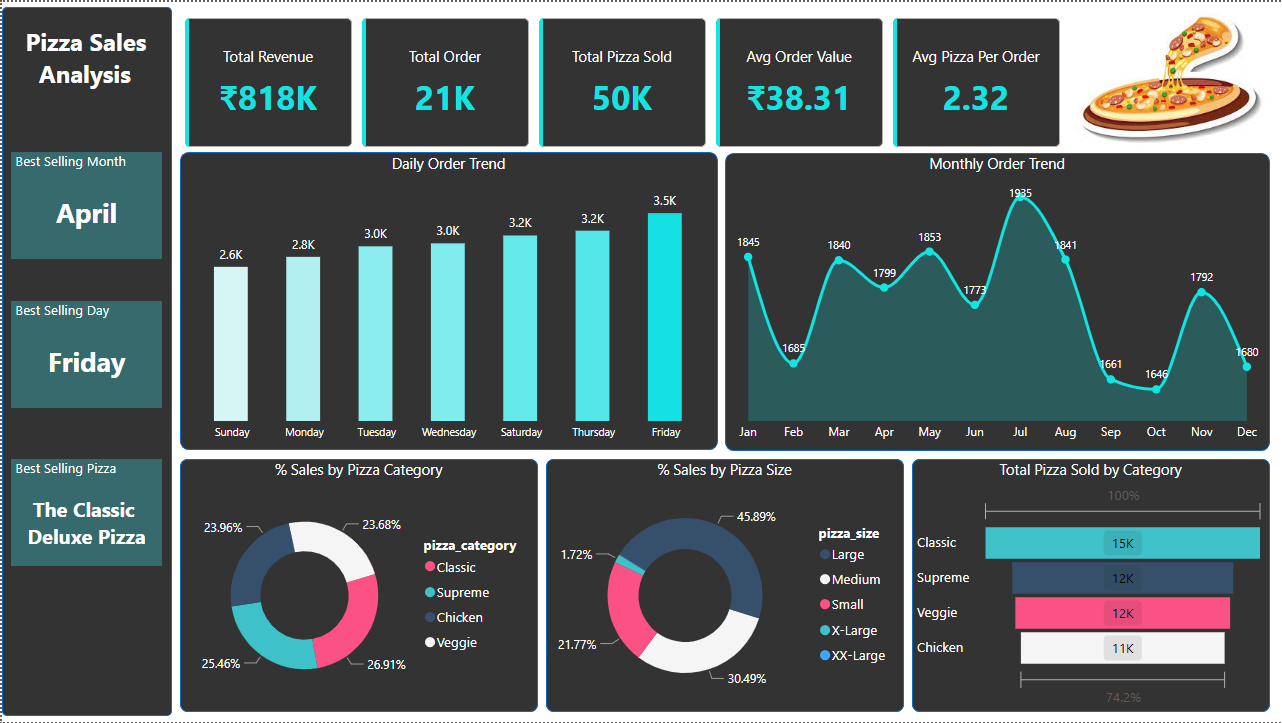

The dashboard page shown, as its layout file describes it:
{"tool":"powerbi","page":{"name":"Page 1","canvas":[1280,720],"ordinal":0},"visuals":[{"type":"shape","box":[723,151,545,298],"z":1000},{"type":"cardVisual","fields":{"Data":["Measures (2).Total Revenue","Measures (2).Total Order","Measures (2).Total Pizza Sold","Measures (2).Avg Order Value","Measures (2).Avg Pizza Per Order"]},"box":[178,11,887,139],"z":2000},{"type":"image","box":[1056,0,224,150],"z":3000},{"type":"shape","box":[0,5,170,709],"z":4000},{"type":"textbox","box":[19,18,132,97],"z":5000},{"type":"shape","box":[178,150,538,298],"z":6000},{"type":"columnChart","title":"Daily Order Trend","fields":{"Category":["Sales.Day Name"],"Y":["Measures (2).Total Order"]},"box":[178,151,538,297],"z":7000},{"type":"shape","box":[178,457,358,253],"z":8000},{"type":"shape","box":[544,457,358,253],"z":9000},{"type":"areaChart","title":"Monthly Order Trend","fields":{"Category":["Sales.Order Month"],"Y":["Measures (2).Total Order"]},"box":[723,151,545,297],"z":10000},{"type":"shape","box":[910,457,358,253],"z":11000},{"type":"donutChart","title":"% Sales by Pizza Category","fields":{"Category":["Sales.pizza_category"],"Y":["Measures (2).Total Revenue"]},"box":[178,457,358,253],"z":12000},{"type":"donutChart","title":"% Sales by Pizza Size","fields":{"Category":["Sales.pizza_size"],"Y":["Measures (2).Total Revenue"]},"box":[544,457,358,253],"z":13000},{"type":"funnel","title":"Total Pizza Sold by Category","fields":{"Category":["Sales.pizza_category"],"Y":["Measures (2).Total Pizza Sold"]},"box":[910,457,358,253],"z":14000},{"type":"card","title":"Best Selling Month","fields":{"Values":["Min(Sales.Month Name)"]},"box":[9,150,151,107],"z":14001},{"type":"card","title":"Best Selling Day","fields":{"Values":["Min(Sales.Day Name)"]},"box":[9,299,151,107],"z":14002},{"type":"card","title":"Best Selling Pizza","fields":{"Values":["Min(Sales.pizza_name)"]},"box":[9,457,151,107],"z":14003}]}

Visuals, with their boxes in screenshot pixels (x1, y1, x2, y2), scaled from the page's 1280x720 canvas onto the 1282x723 screenshot:
shape: 724 152 1270 451
cardVisual - Measures (2).Total Revenue x Measures (2).Total Order: 178 11 1067 151
image: 1058 0 1281 151
shape: 0 5 170 717
textbox: 19 18 151 115
shape: 178 151 717 450
"Daily Order Trend" columnChart: 178 152 717 450
shape: 178 459 537 713
shape: 545 459 903 713
"Monthly Order Trend" areaChart: 724 152 1270 450
shape: 911 459 1270 713
"% Sales by Pizza Category" donutChart: 178 459 537 713
"% Sales by Pizza Size" donutChart: 545 459 903 713
"Total Pizza Sold by Category" funnel: 911 459 1270 713
"Best Selling Month" card: 9 151 160 258
"Best Selling Day" card: 9 300 160 408
"Best Selling Pizza" card: 9 459 160 566
